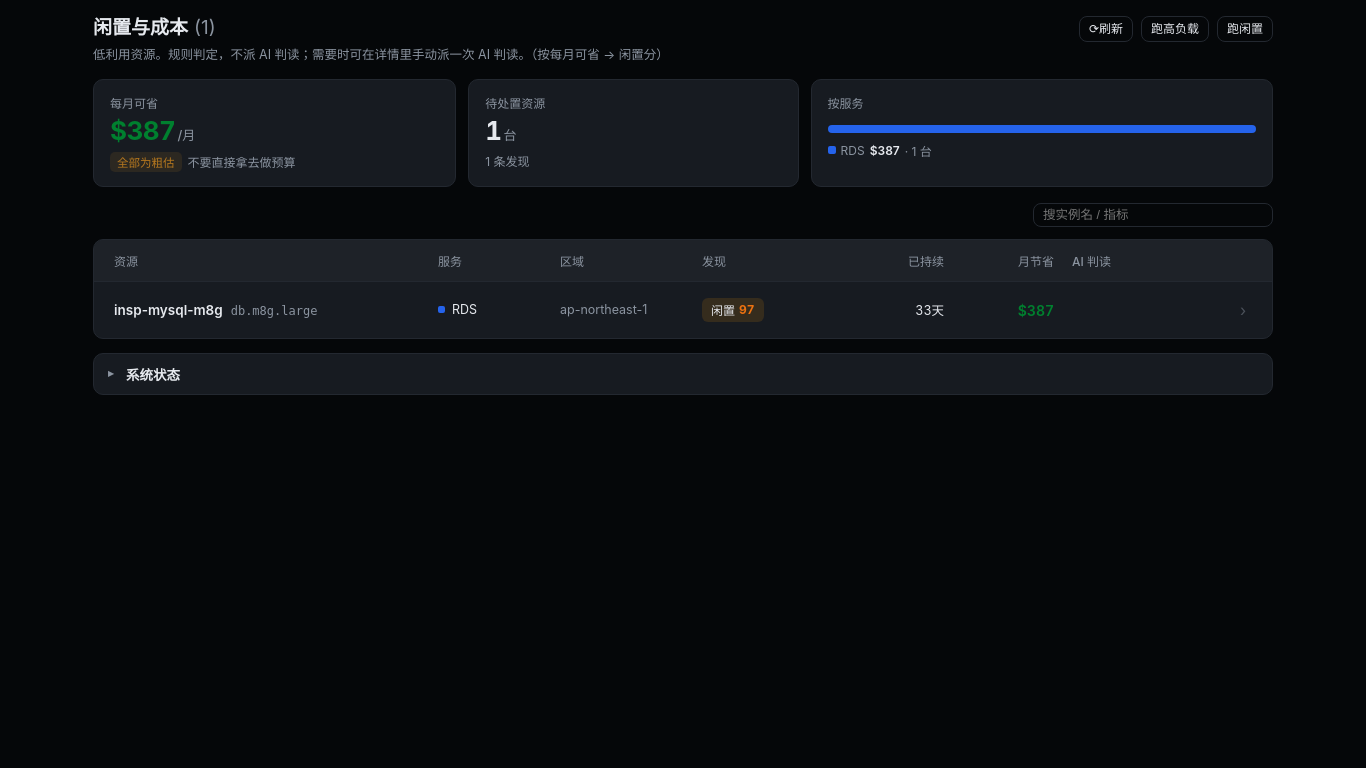
it: 闲置与成本：表格视图（2026-10 第二版：一行一台资源） › ★★★ 抽屉里「判定方式」用界面文案，不读库里那句可能过时的 conclusion
Click the button with aria-label "insp-mysql-m8g 的巡检详情" at (168, 310), box left=114, top=298, right=1246, bottom=322
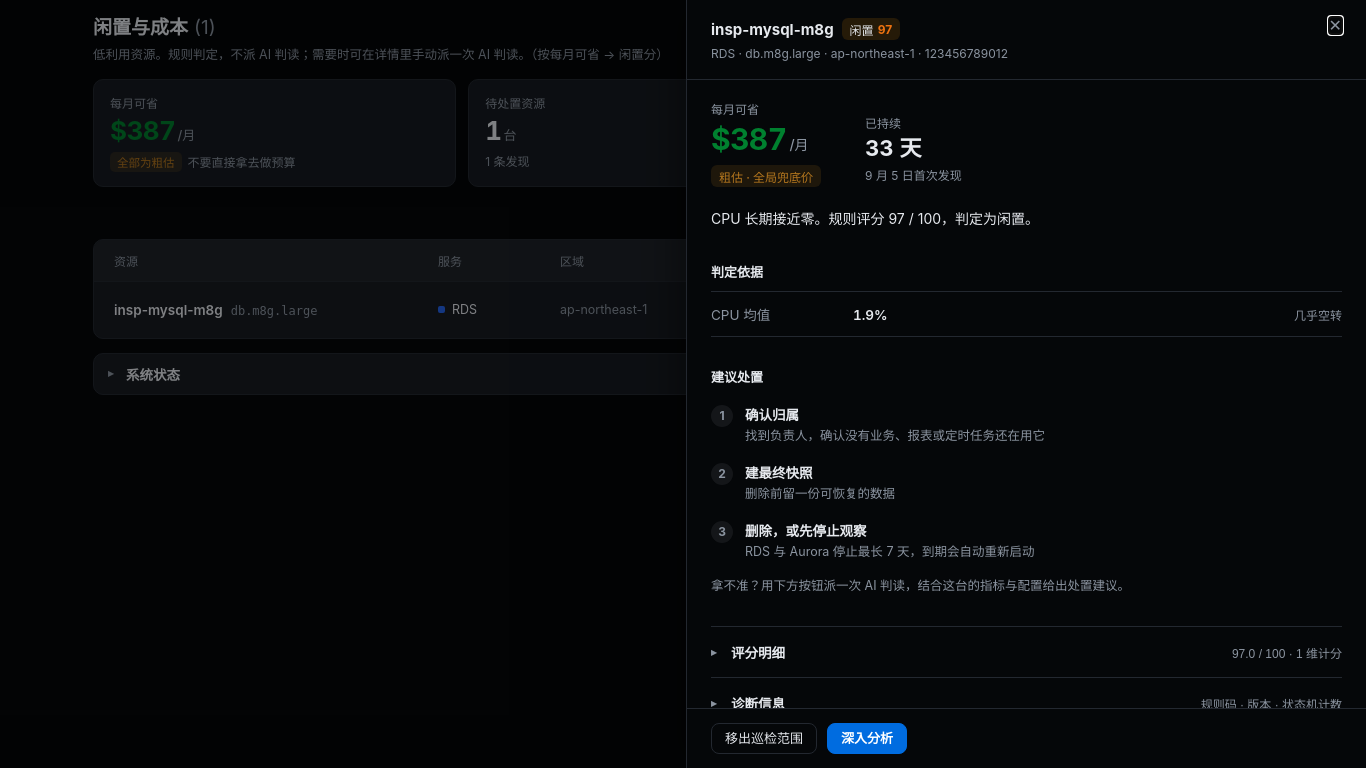
Click the button "▸ 评分明细 97.0 / 100 · 1 维计分" at (758, 654), box left=711, top=627, right=1342, bottom=677
(page scrolled)
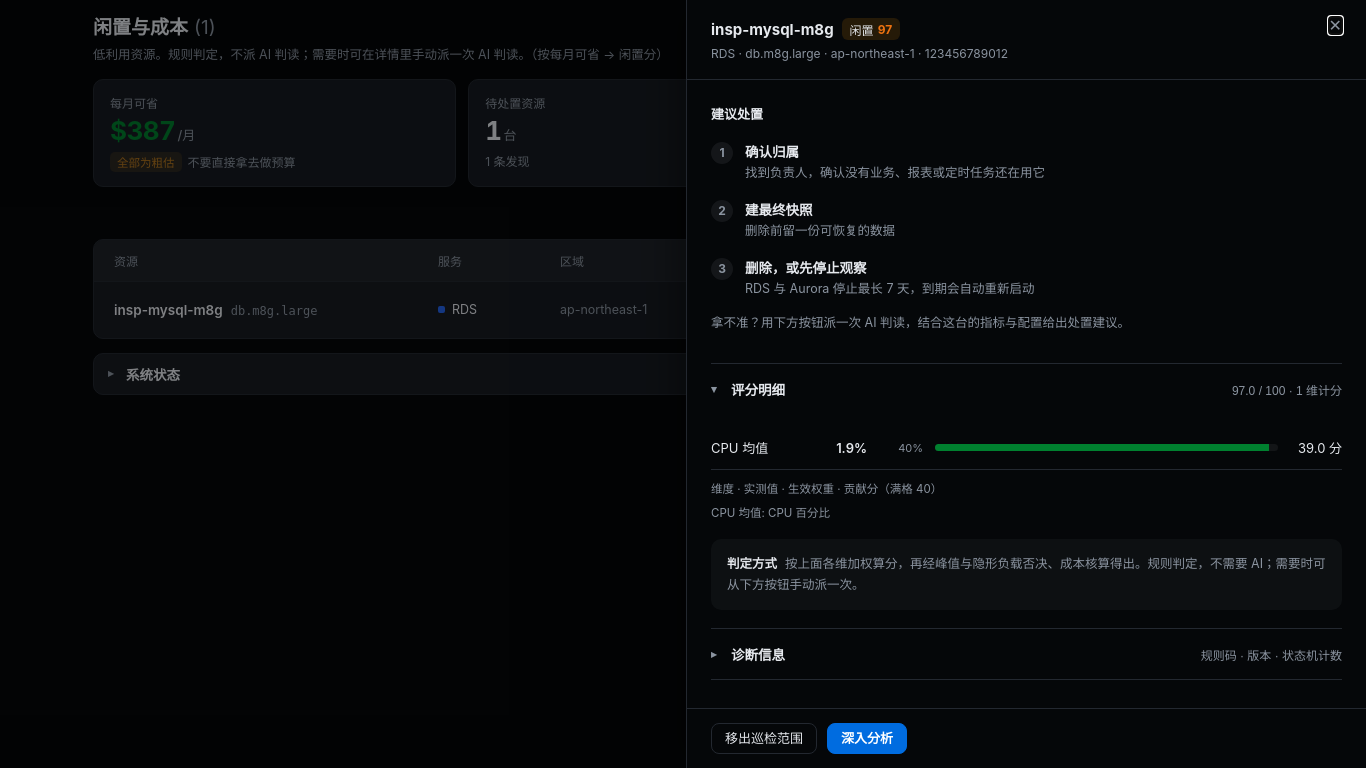
Expected: the text "判定方式" is shown, left=727, top=556, right=777, bottom=570
